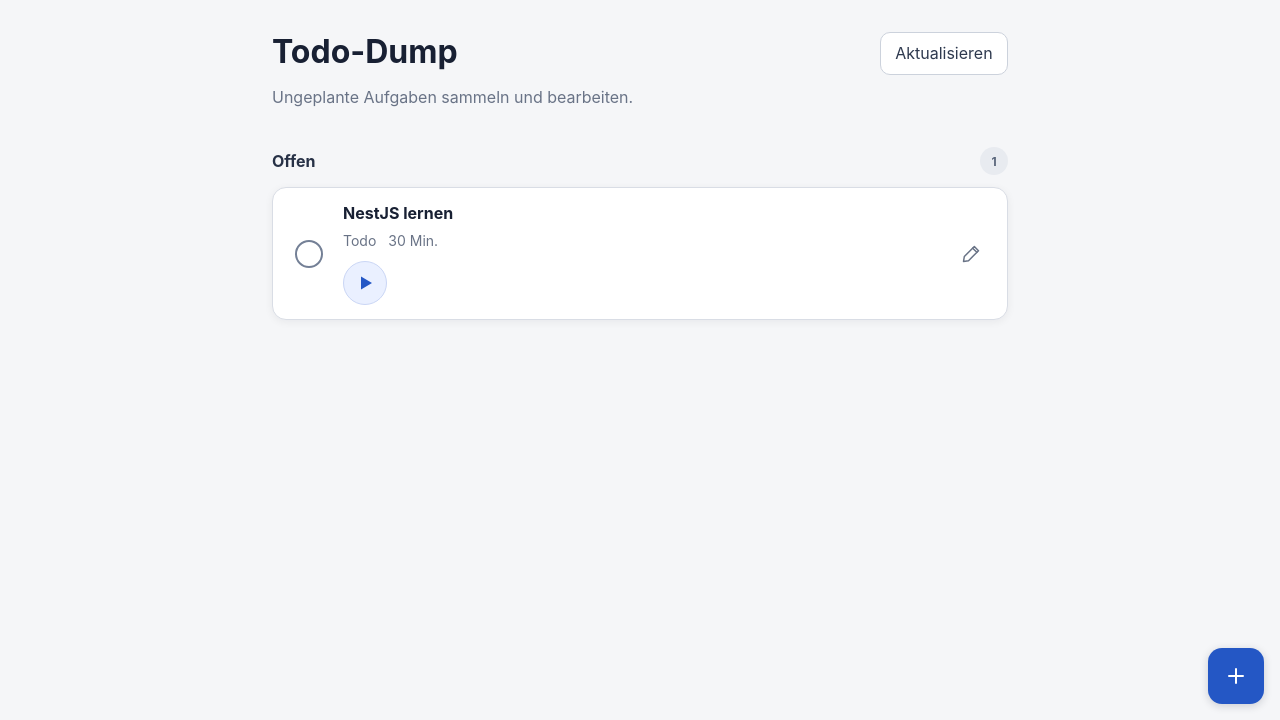
Test: TodoDumpView › updates title and duration without scheduling the todo
Click the button named "NestJS lernen bearbeiten".
click(971, 254)  # box [949,232,993,276]
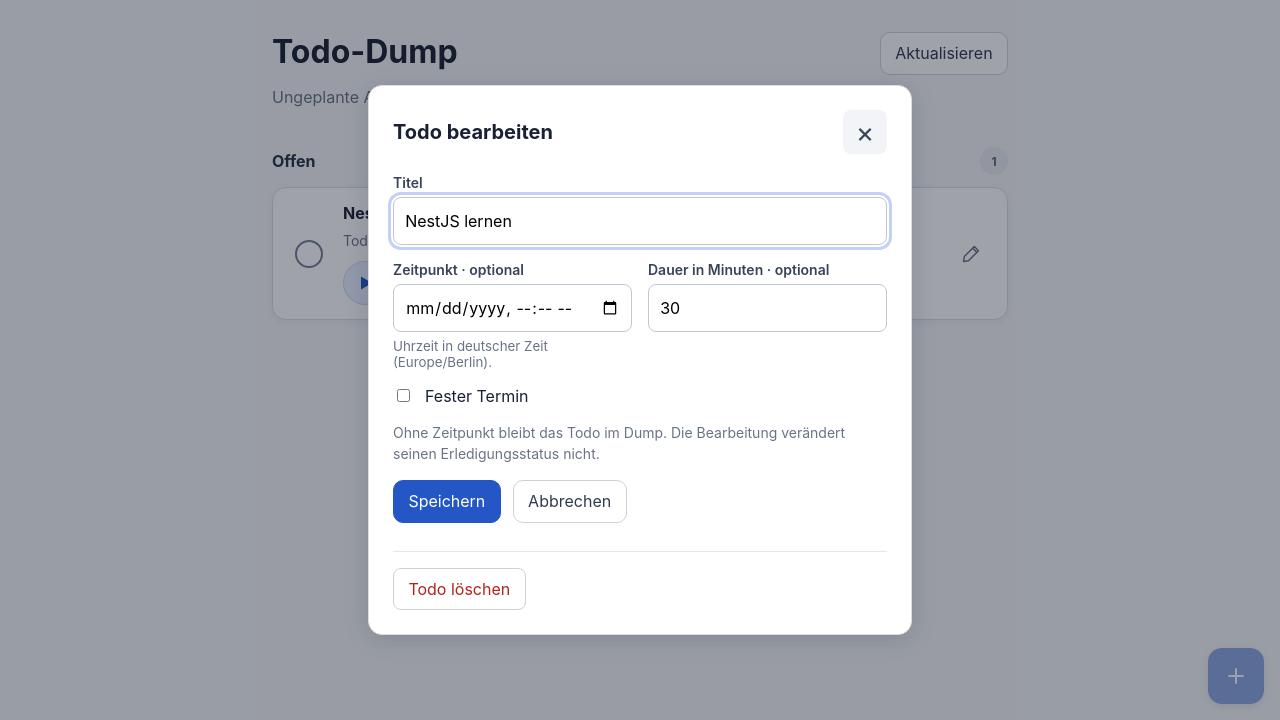
Replace the text in the field named "editTitle" with "Vue lernen" at (640, 221), box [393,197,887,245]
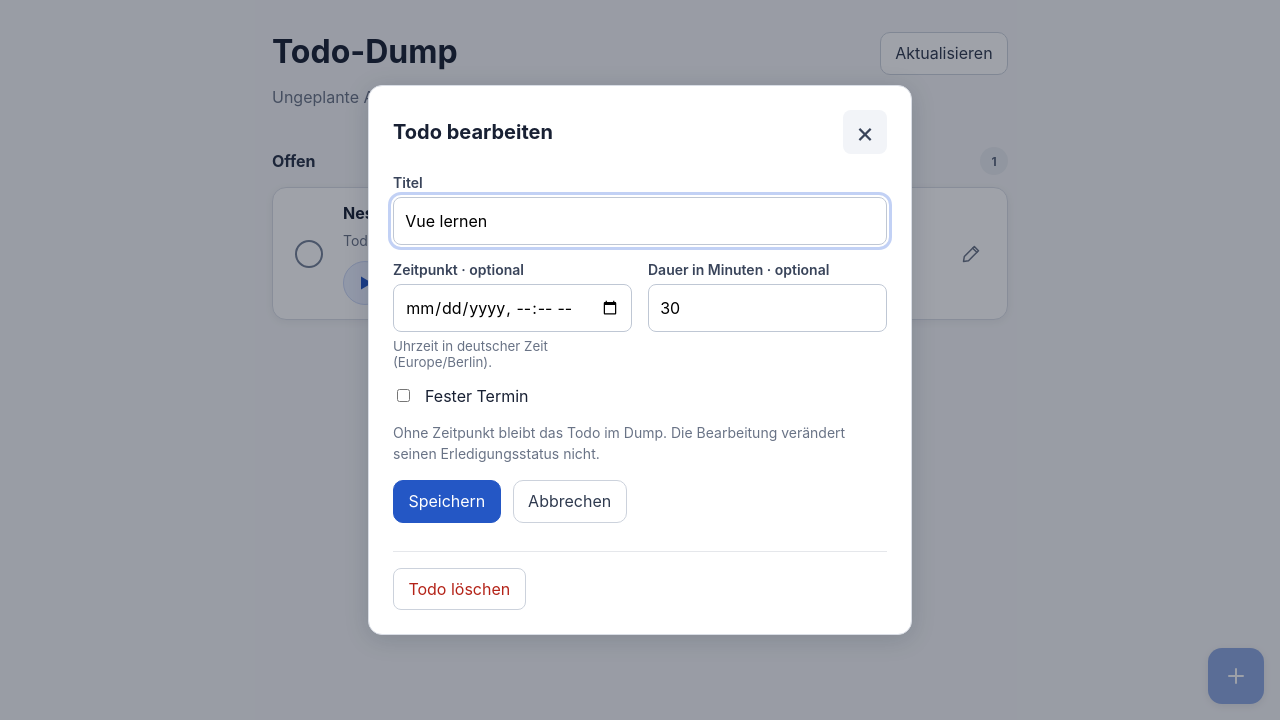
Replace the text in the number field named "editDuration" with "45" at (768, 308), box [648,284,887,332]
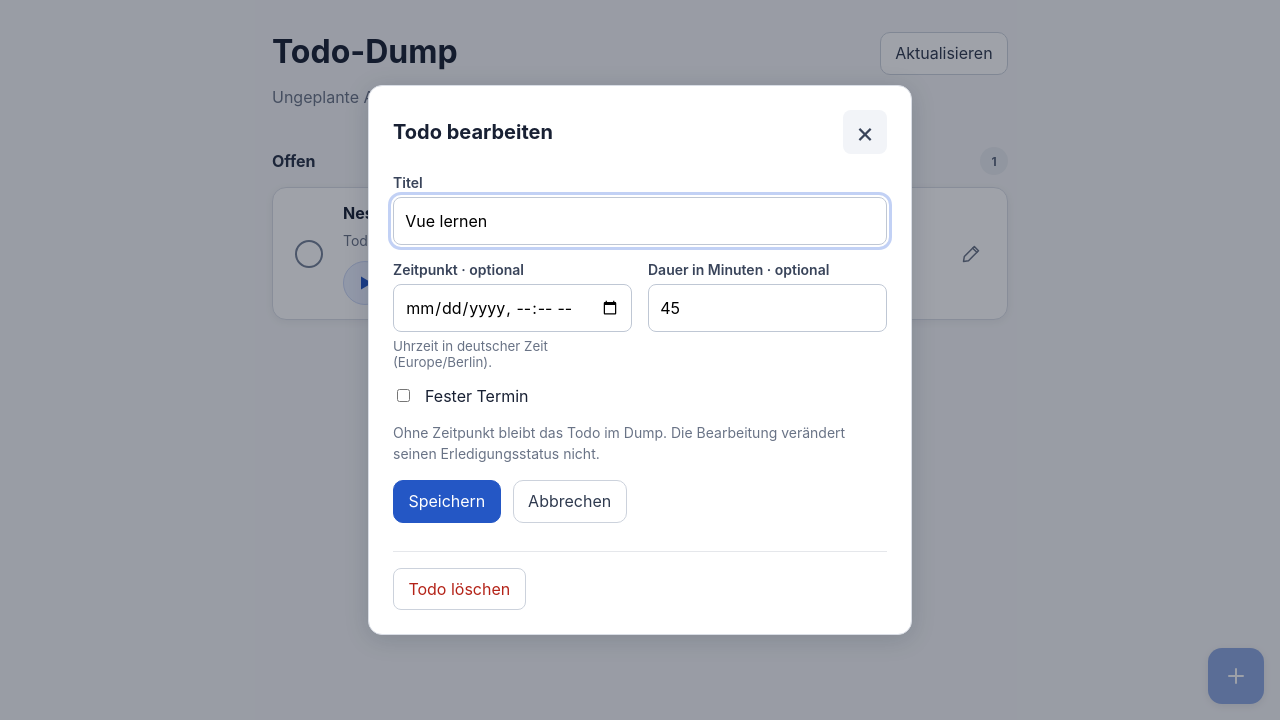
Submit the form with test id "editing-form", box [393,174,887,610]
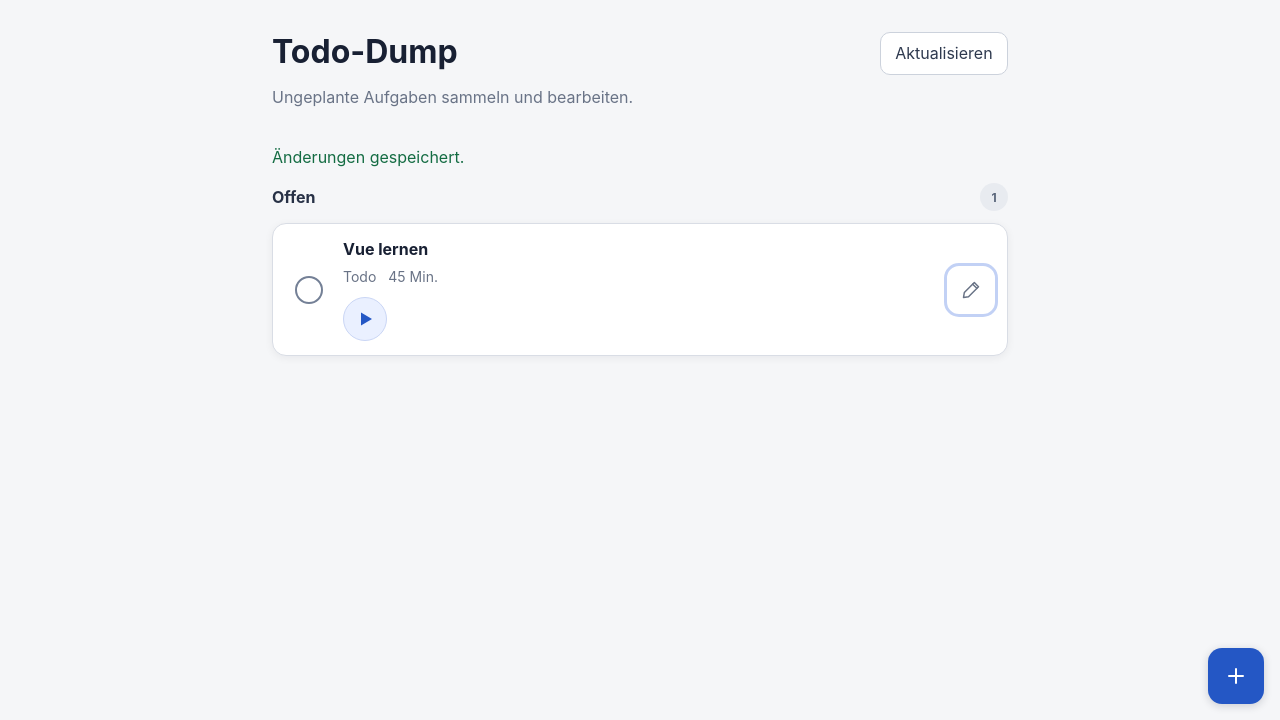
Now the text "Vue lernen" is shown, box [343,239,428,259]
